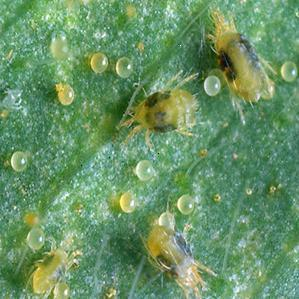spider mite: (198, 16, 282, 120), (113, 85, 211, 166), (129, 215, 214, 299), (18, 230, 84, 299)
